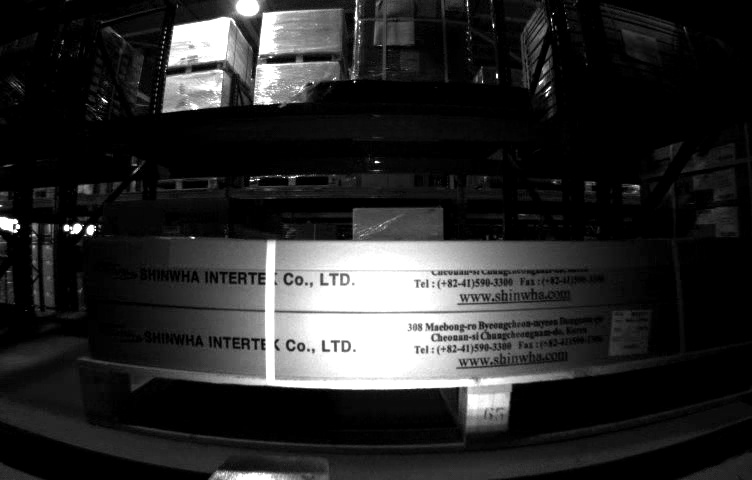True Barcode: (610, 309, 649, 353)
